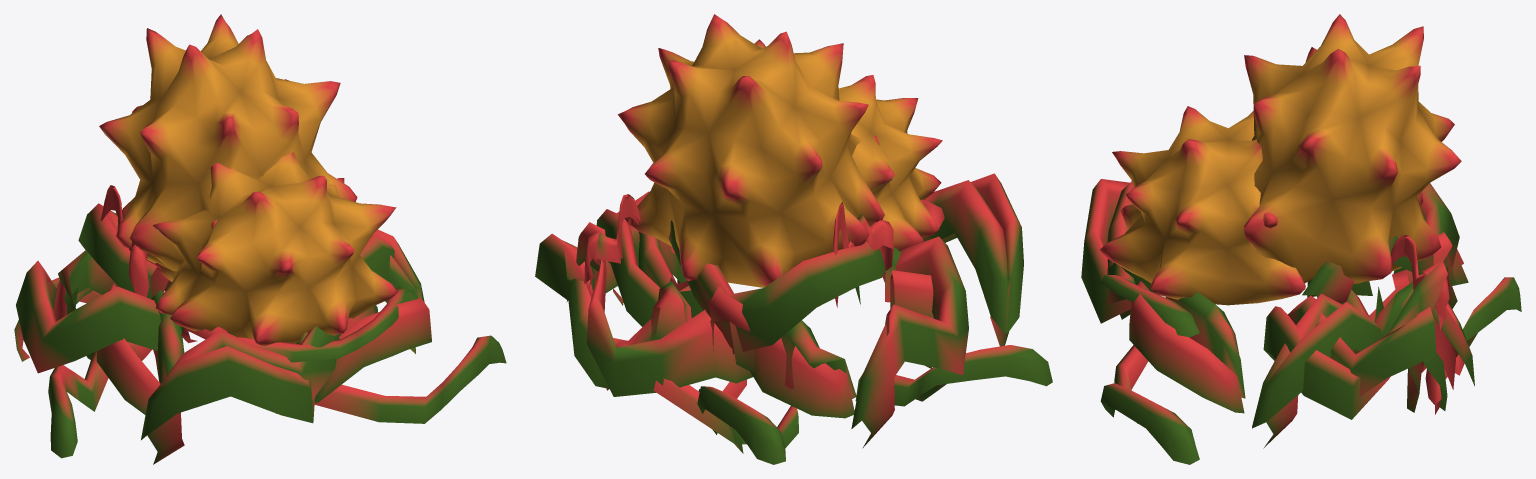
Rendered from Bulb_Up_1.fbx.
3 views of the same model, side by side, from view 1: azimuth 30°, elevation 25°; view 2: azimuth 150°, elevation 25°; view 3: azimuth 270°, elevation 25° (orthographic). The views are drawn at different scales.
Visible parts, largest first — view 1: pPlane78; view 2: pPlane78; view 3: pPlane78.
Boxes of the visible parts, x1,y1,x2,y2 form: pPlane78: (14, 14, 506, 464); pPlane78: (535, 14, 1052, 464); pPlane78: (1081, 14, 1521, 464).
Bounding box in the file's own units: 655 × 518 × 563.
